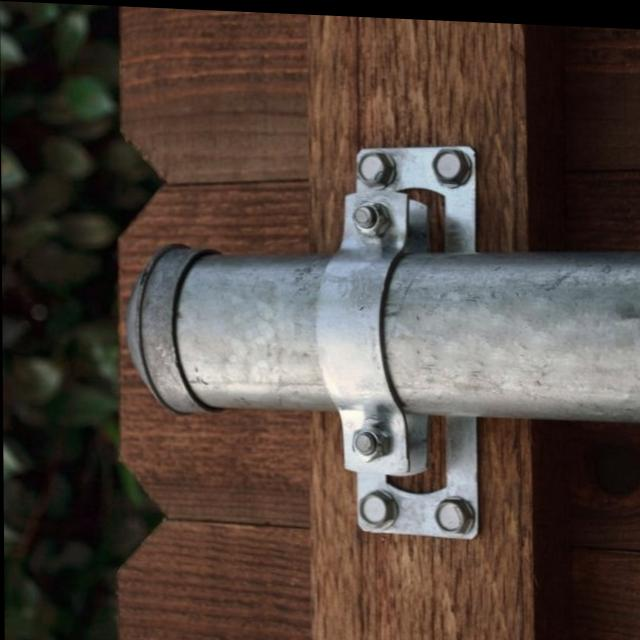Regular bolt: (357, 487, 396, 527), (432, 492, 473, 530), (351, 422, 390, 461), (351, 197, 391, 235), (357, 146, 394, 186)
